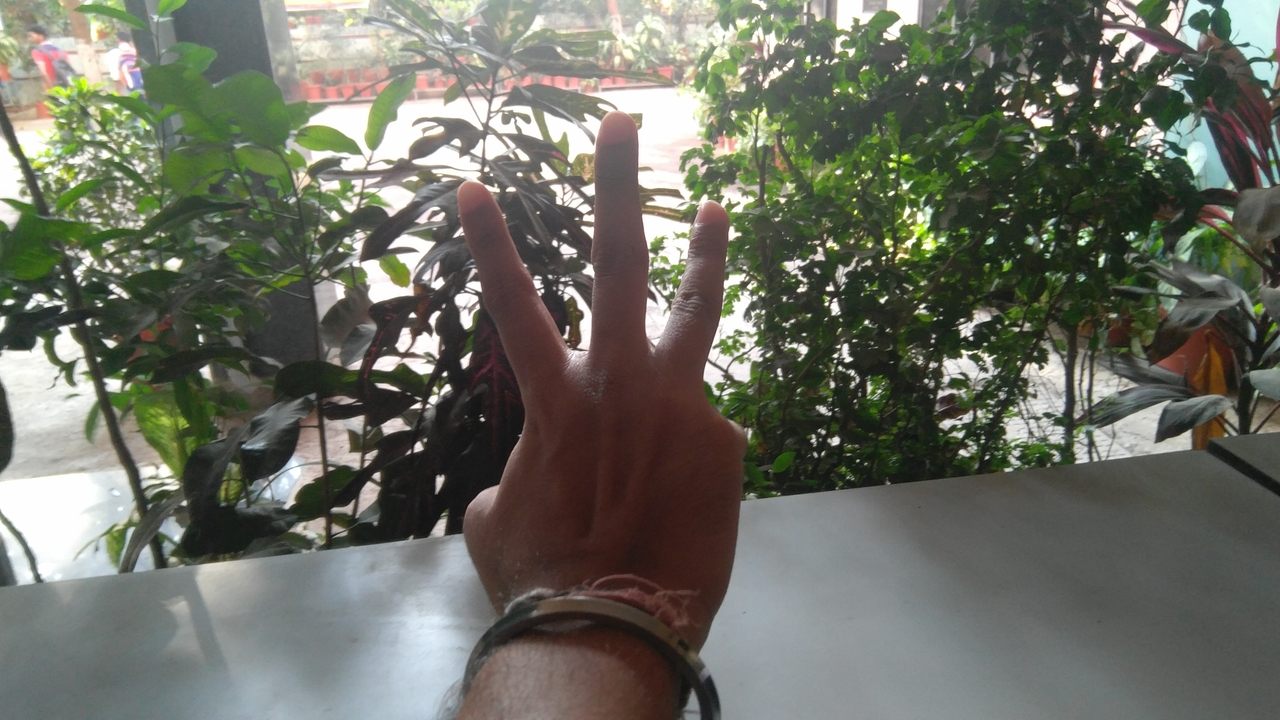fingertip: (446, 170, 502, 232), (590, 106, 642, 156), (688, 186, 736, 236)
